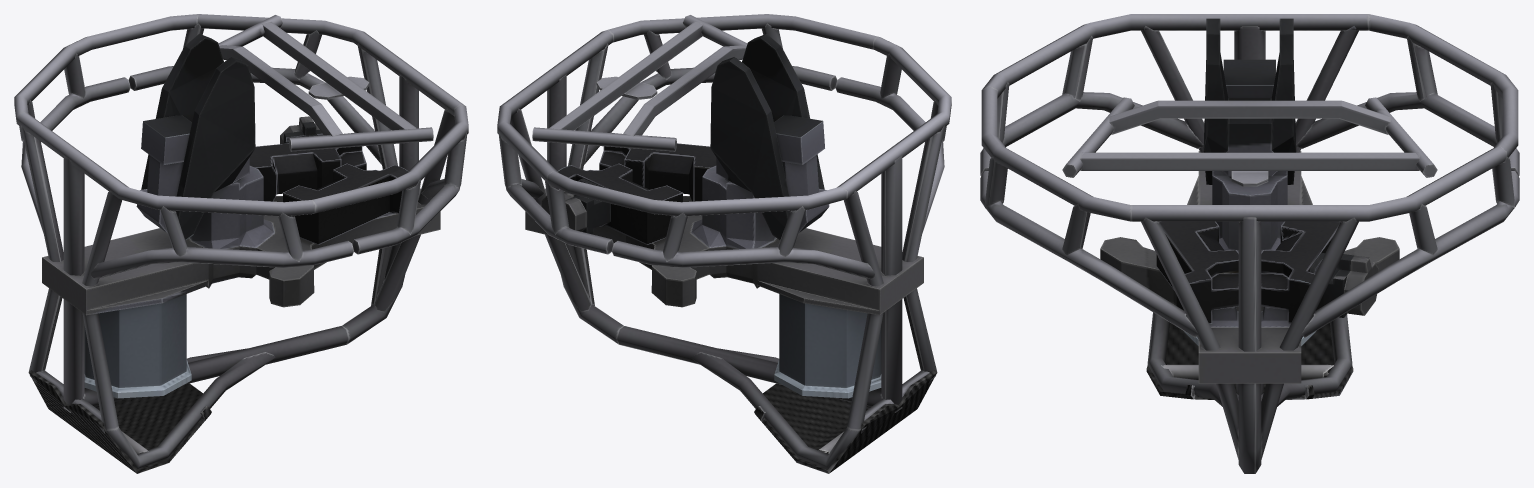
File: pelvis.dae
The picture shows the model from 3 angles, left to right: view 1: azimuth 30°, elevation 25°; view 2: azimuth 150°, elevation 25°; view 3: azimuth 270°, elevation 25°; orthographic projection. The views are drawn at different scales.
Parts seen in each view (by area): view 1: drc_pelvis; view 2: drc_pelvis; view 3: drc_pelvis.
Part boxes in pixels (bbox=[...]): drc_pelvis: bbox=[14, 14, 468, 473]; drc_pelvis: bbox=[497, 14, 951, 473]; drc_pelvis: bbox=[980, 14, 1519, 473].
Size of the model in its own units: 0.3334 by 0.3768 by 0.3289.
1 material, 1 textured.
